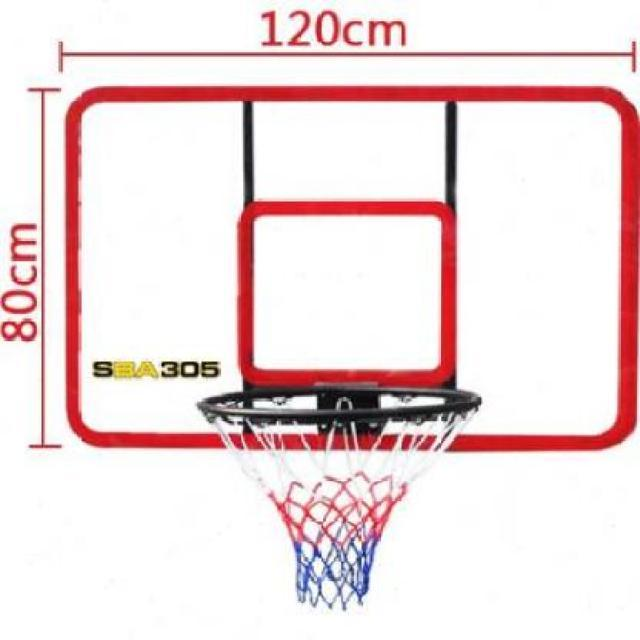rim: (198, 388, 484, 612)
